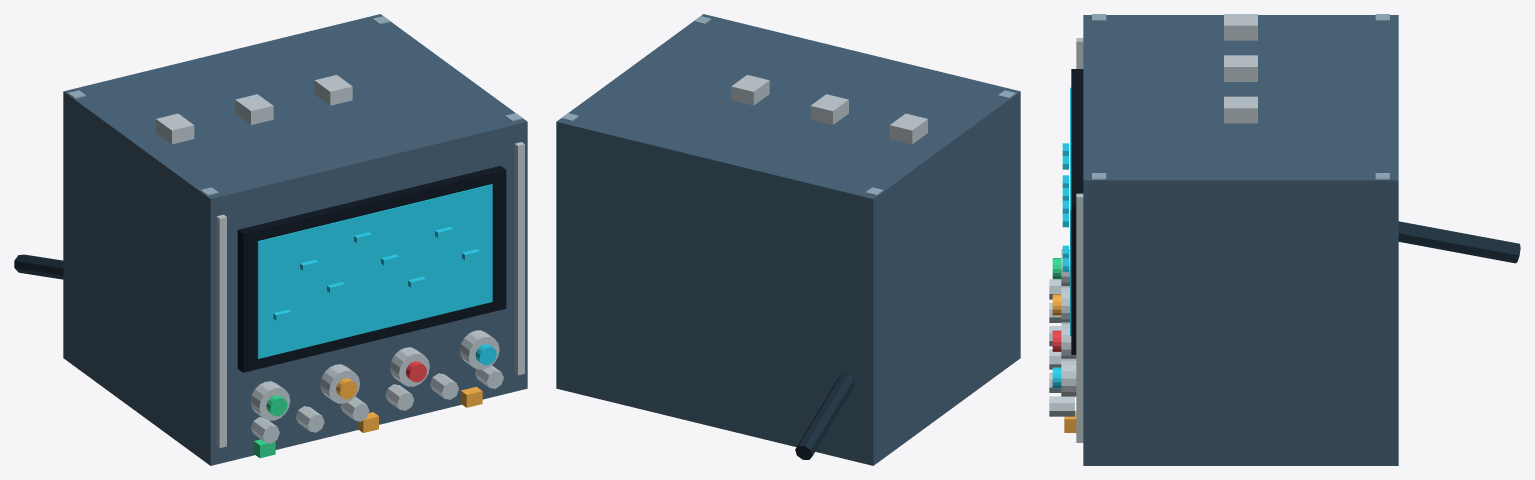
The model's file is 18_L80_VariableOpticalAttenuator.fbx.
3 renders of one model, left to right at view 1: azimuth 30°, elevation 25°; view 2: azimuth 150°, elevation 25°; view 3: azimuth 270°, elevation 25°, orthographic. The views are drawn at different scales.
Parts seen in each view (by area): view 1: VariableOpticalAttenuator; view 2: VariableOpticalAttenuator; view 3: VariableOpticalAttenuator.
Part boxes in pixels (x1=…): VariableOpticalAttenuator: x1=14, y1=14, x2=527, y2=465; VariableOpticalAttenuator: x1=556, y1=14, x2=1020, y2=465; VariableOpticalAttenuator: x1=1049, y1=14, x2=1520, y2=465.
Bounding box in the file's own units: 92 × 77.86 × 111.
